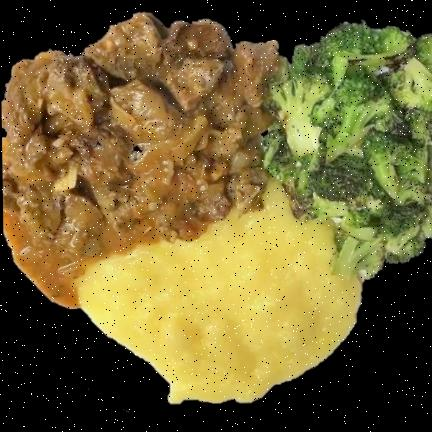broccoli: (263, 23, 431, 277)
meat: (1, 12, 278, 307)
potato: (76, 180, 361, 403)
